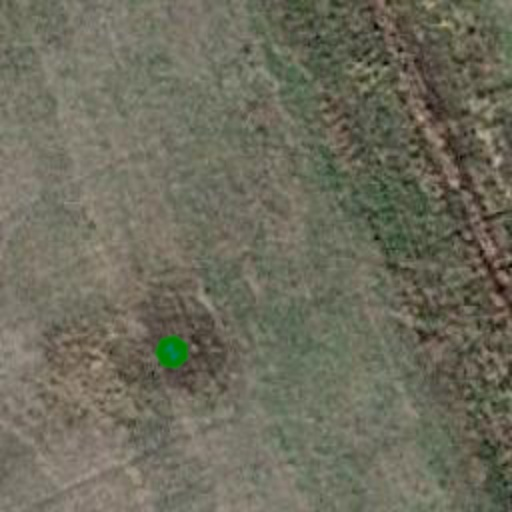heptagon: (146, 326, 198, 378)
